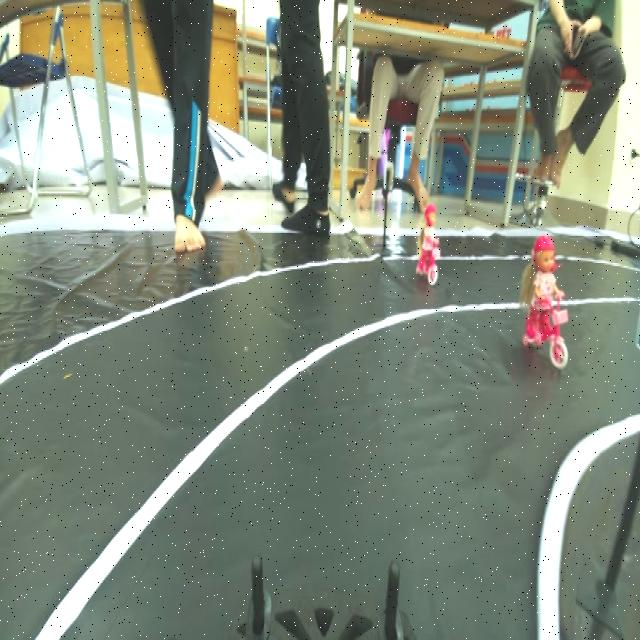pedestrian: (521, 234, 569, 364), (415, 201, 442, 279)
